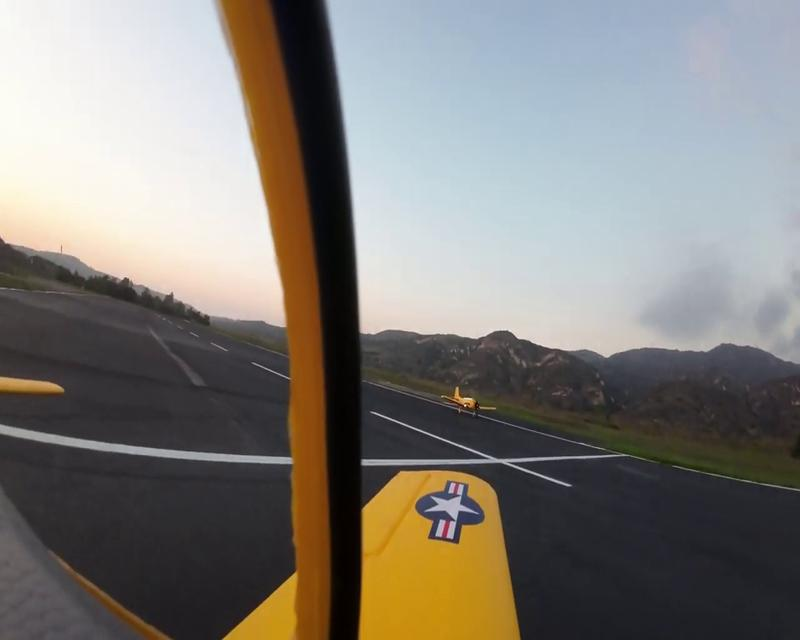UAV: (440, 388, 496, 418)
